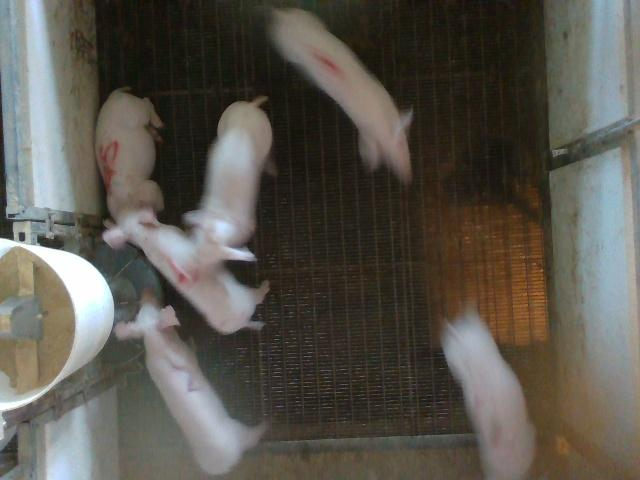pig-1: (269, 9, 411, 182)
pig-2: (115, 295, 266, 474)
pig-3: (441, 309, 535, 478)
pig-4: (102, 209, 269, 334)
pig-5: (95, 88, 164, 223)
